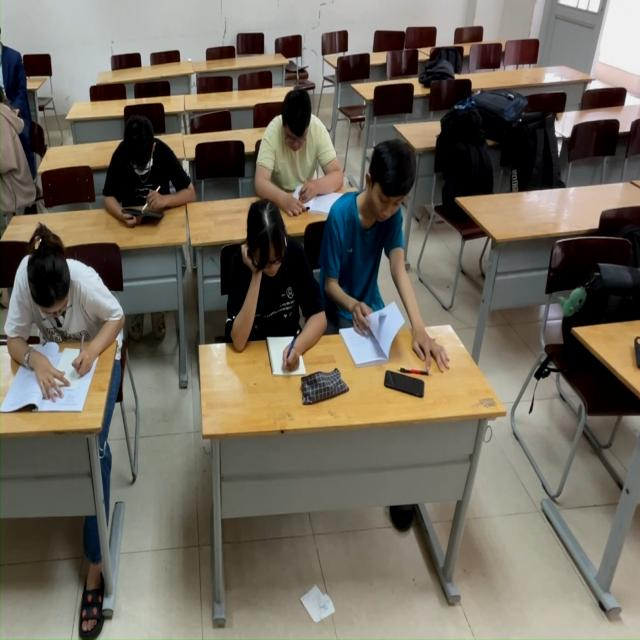read: (1, 203, 125, 421), (220, 203, 335, 388), (99, 106, 201, 237), (254, 85, 345, 221)
